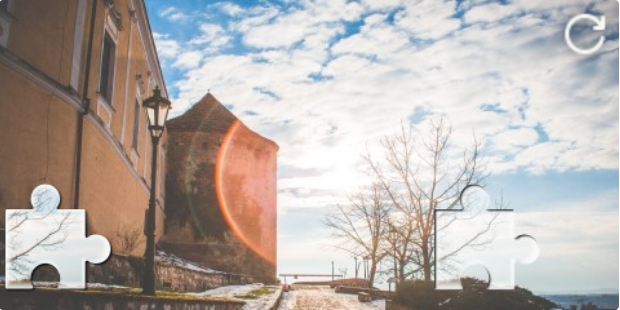target: (434, 184, 539, 291)
